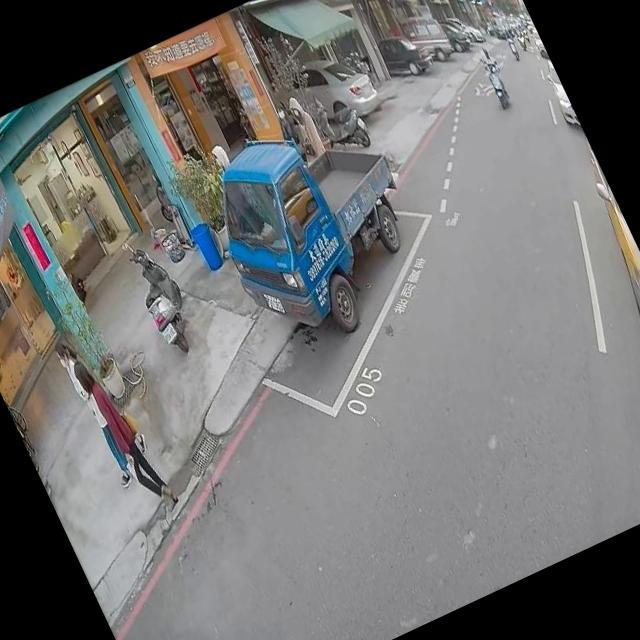person: (64, 344, 180, 522), (53, 329, 169, 504), (280, 90, 332, 166), (266, 96, 316, 172), (200, 136, 236, 178), (476, 46, 500, 76), (511, 22, 522, 38)
